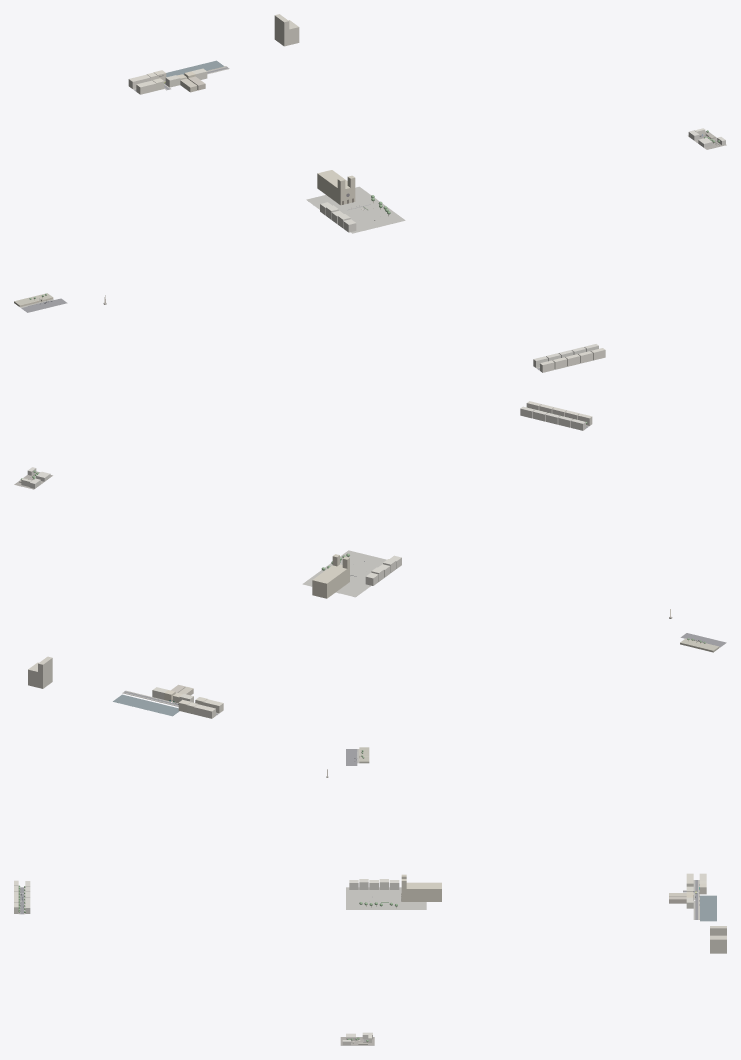
3 renders of one model, top to bottom at view 1: azimuth 30°, elevation 25°; view 2: azimuth 150°, elevation 25°; view 3: azimuth 270°, elevation 25°, orthographic. The views are drawn at different scales.
Parts seen in each view (by area): view 1: S01_parvis, S01_cathedral; view 2: S01_parvis, S01_cathedral, S03_seine; view 3: S01_parvis, S01_cathedral.
Part boxes in pixels (left/top/right/bottom): S01_parvis: left=306, top=186, right=405, bottom=233; S01_cathedral: left=317, top=170, right=350, bottom=203; S01_parvis: left=302, top=550, right=386, bottom=597; S01_cathedral: left=312, top=564, right=349, bottom=598; S03_seine: left=113, top=694, right=179, bottom=716; S01_parvis: left=346, top=887, right=426, bottom=909; S01_cathedral: left=406, top=882, right=441, bottom=901.
Bounding box in the file's own units: 2080 × 73 × 2114.
